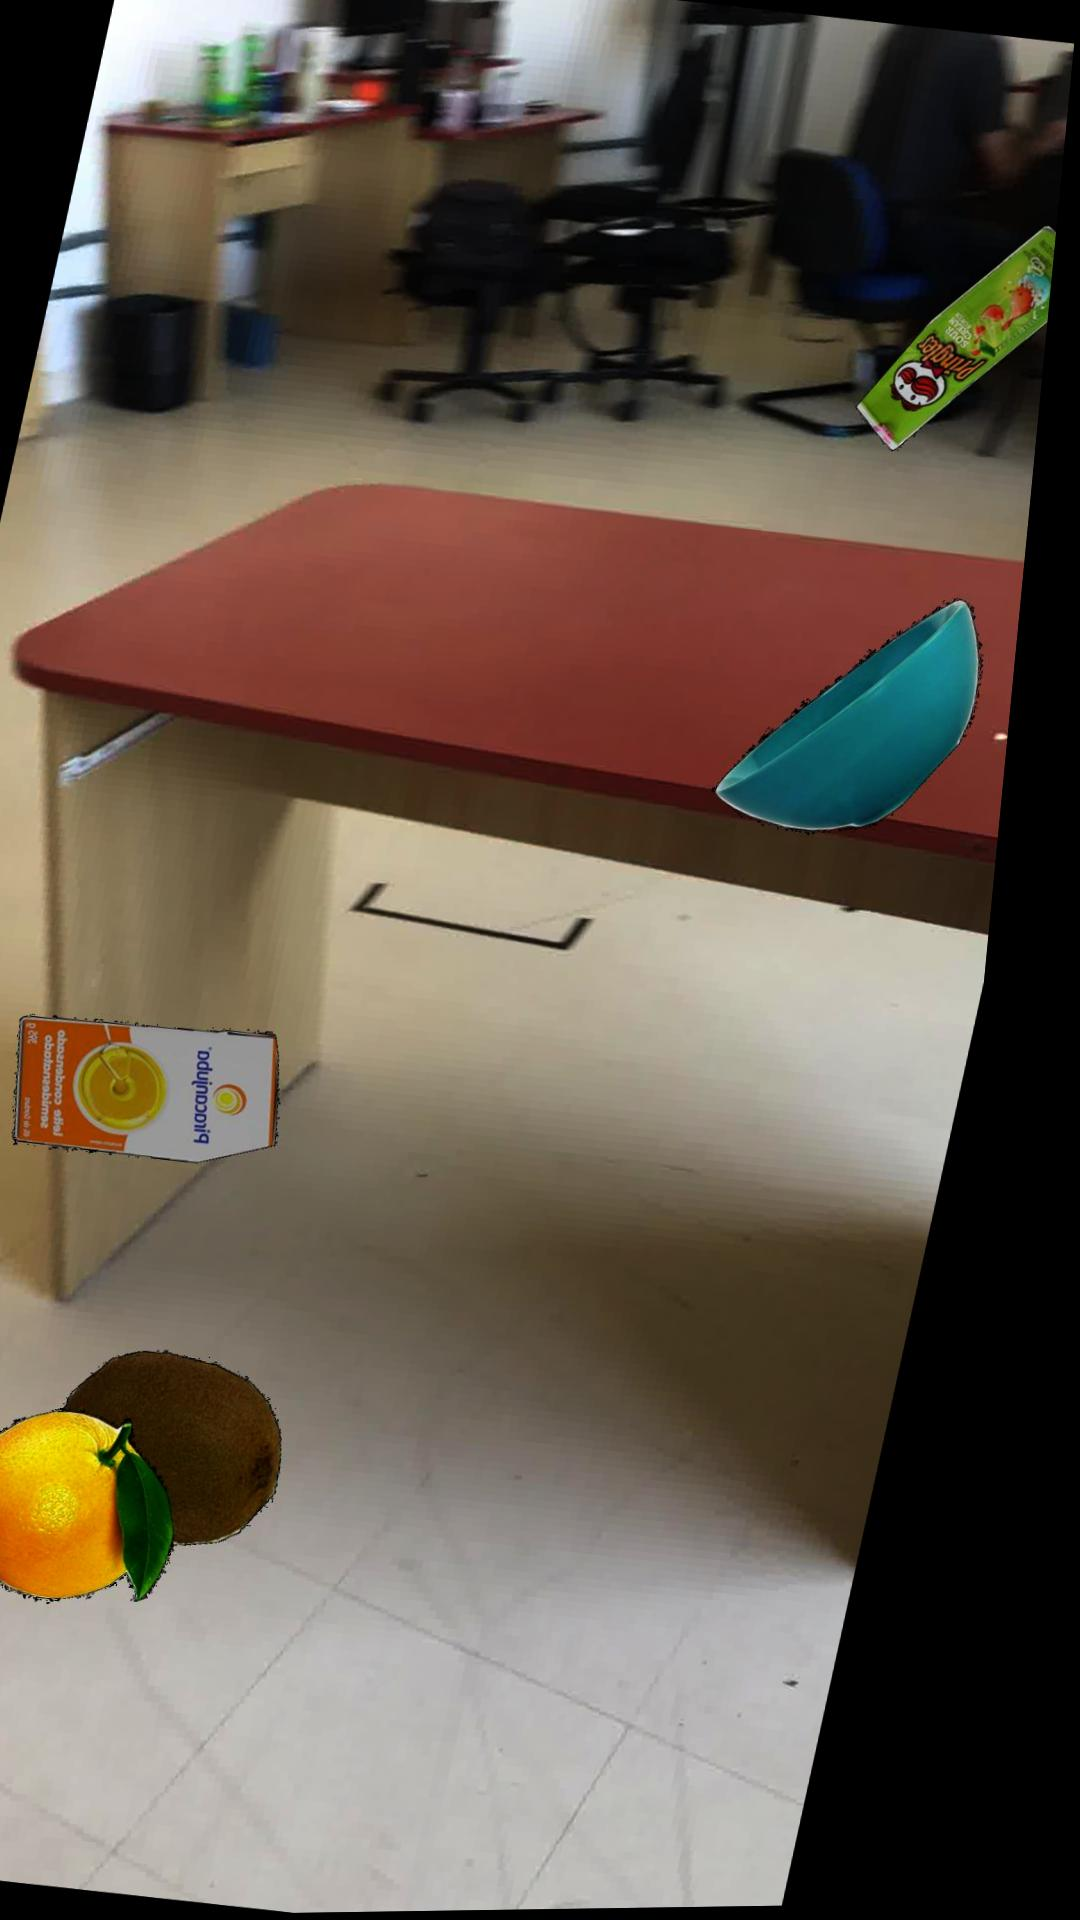bowl: (727, 600, 993, 833)
kiwi: (90, 1349, 310, 1544)
orange: (0, 1407, 204, 1601)
pringles: (862, 227, 1062, 452)
